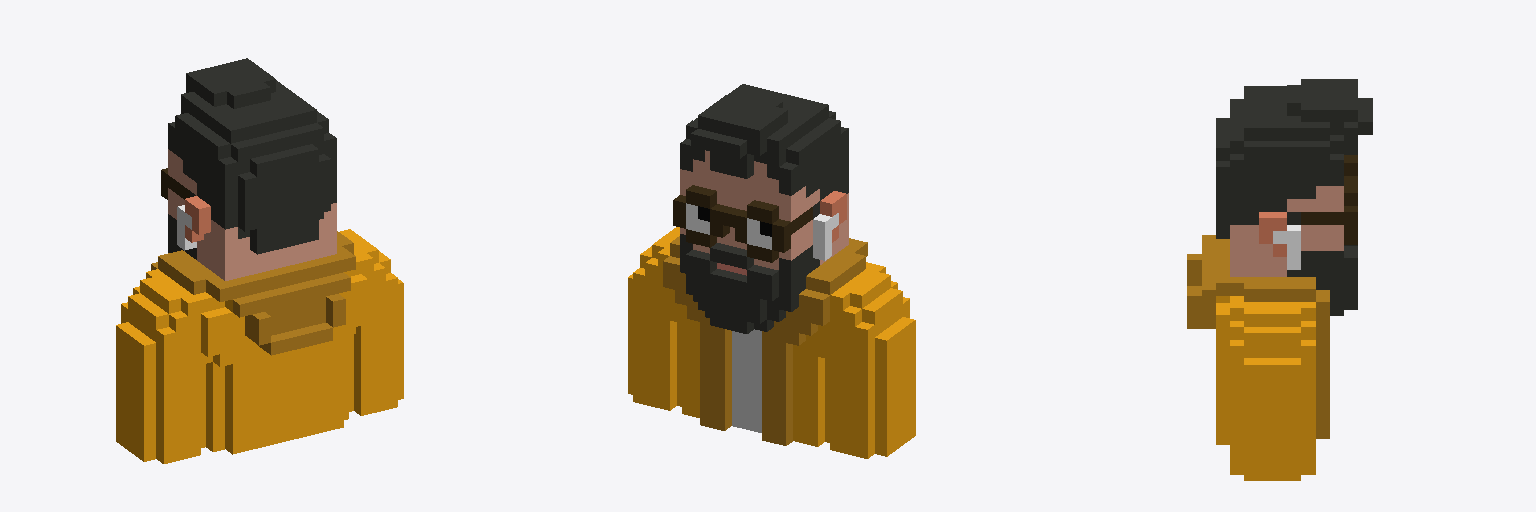
3 renders of one model, left to right at view 1: azimuth 30°, elevation 25°; view 2: azimuth 150°, elevation 25°; view 3: azimuth 270°, elevation 25°, orthographic.
Visible parts, largest first — view 1: object 1; view 2: object 1; view 3: object 1.
Part boxes in pixels (left/top/right/bottom): object 1: left=116, top=58, right=403, bottom=463; object 1: left=628, top=84, right=915, bottom=458; object 1: left=1187, top=79, right=1372, bottom=480.
Bounding box in the file's own units: 4.2 × 5 × 2.6.
1 materials, 1 textured.